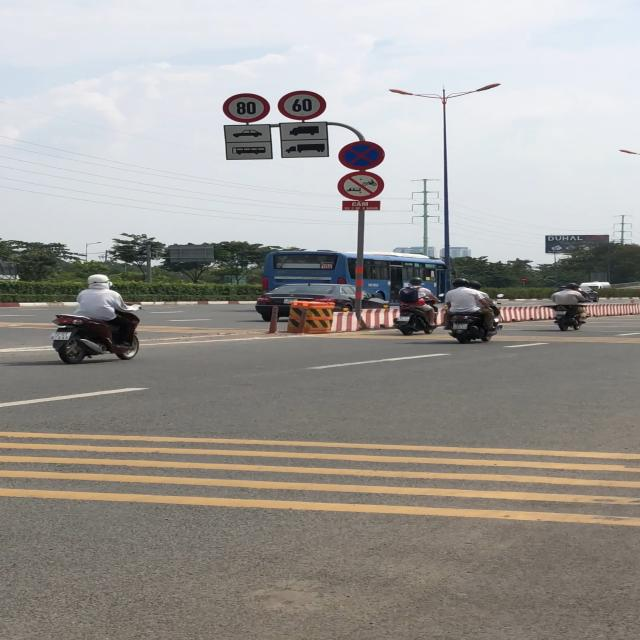Bien bao cam dung xe va do xe: (331, 140, 390, 170)
Bien bao toc do toi da cho phep: (220, 91, 272, 125), (277, 89, 329, 123)
